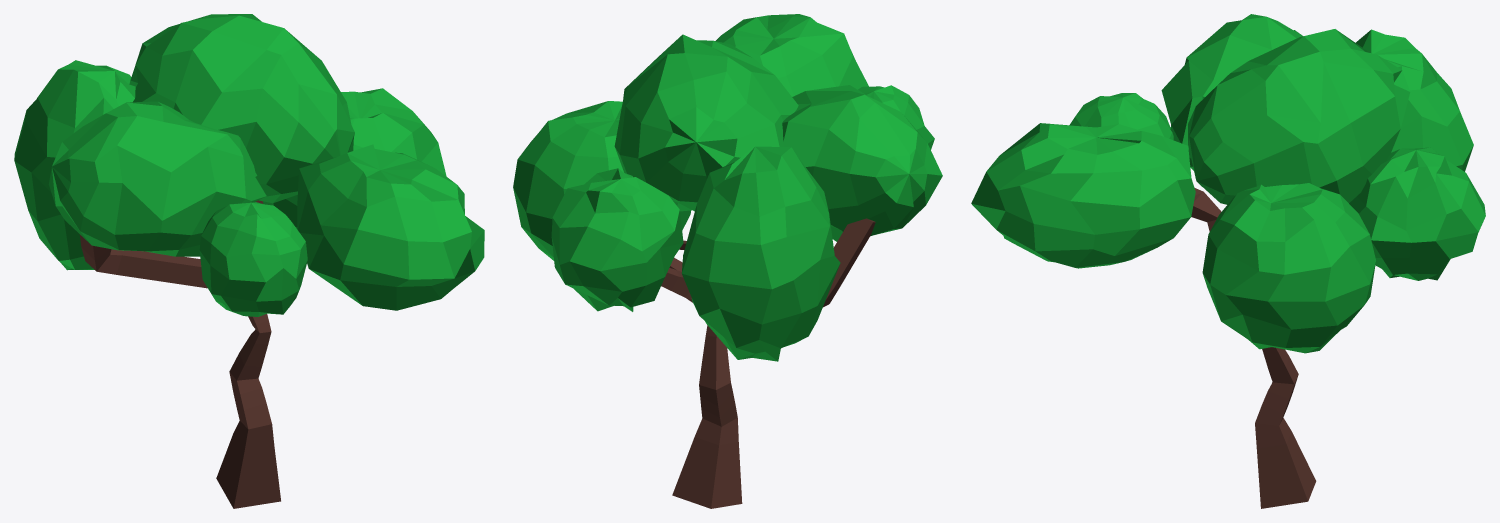
Rendered from Tree1.fbx.
The picture shows the model from 3 angles, left to right: view 1: azimuth 30°, elevation 25°; view 2: azimuth 150°, elevation 25°; view 3: azimuth 270°, elevation 25°; orthographic projection. The views are drawn at different scales.
Visible parts, largest first — view 1: Tree1; view 2: Tree1; view 3: Tree1.
Part boxes in pixels (<box>): Tree1: <box>14,14,484,508</box>; Tree1: <box>513,14,942,508</box>; Tree1: <box>971,14,1485,508</box>.
Size of the model in its own units: 1778 by 2059 by 2126.
